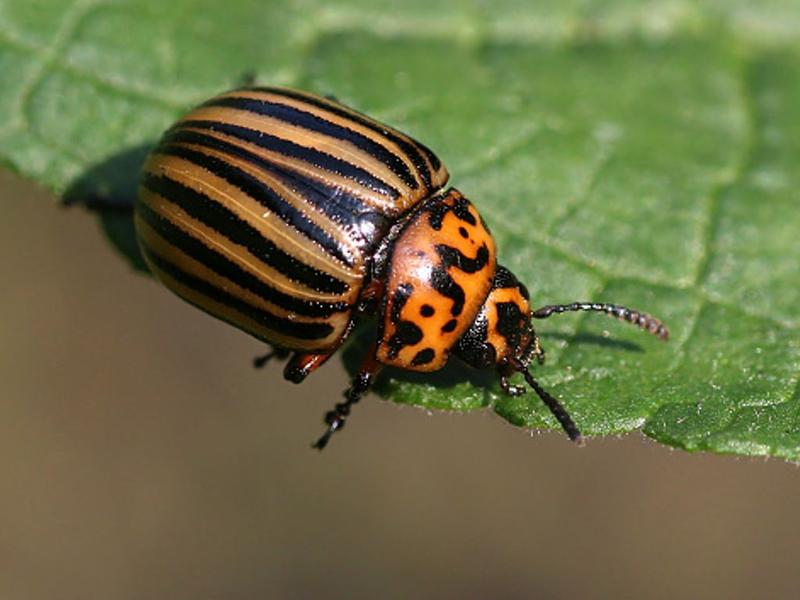hrosc: (132, 77, 603, 444)
